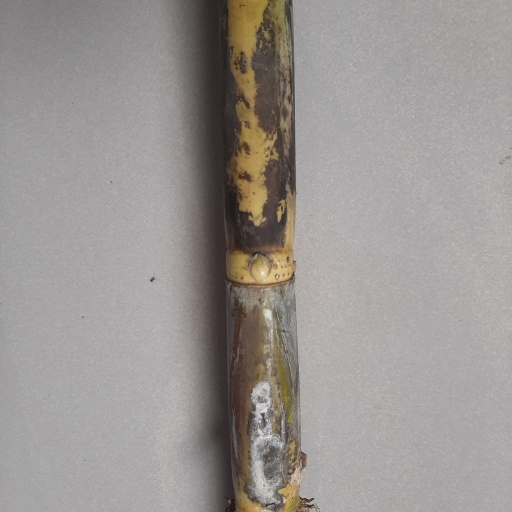Bud: (248, 253, 271, 285)
